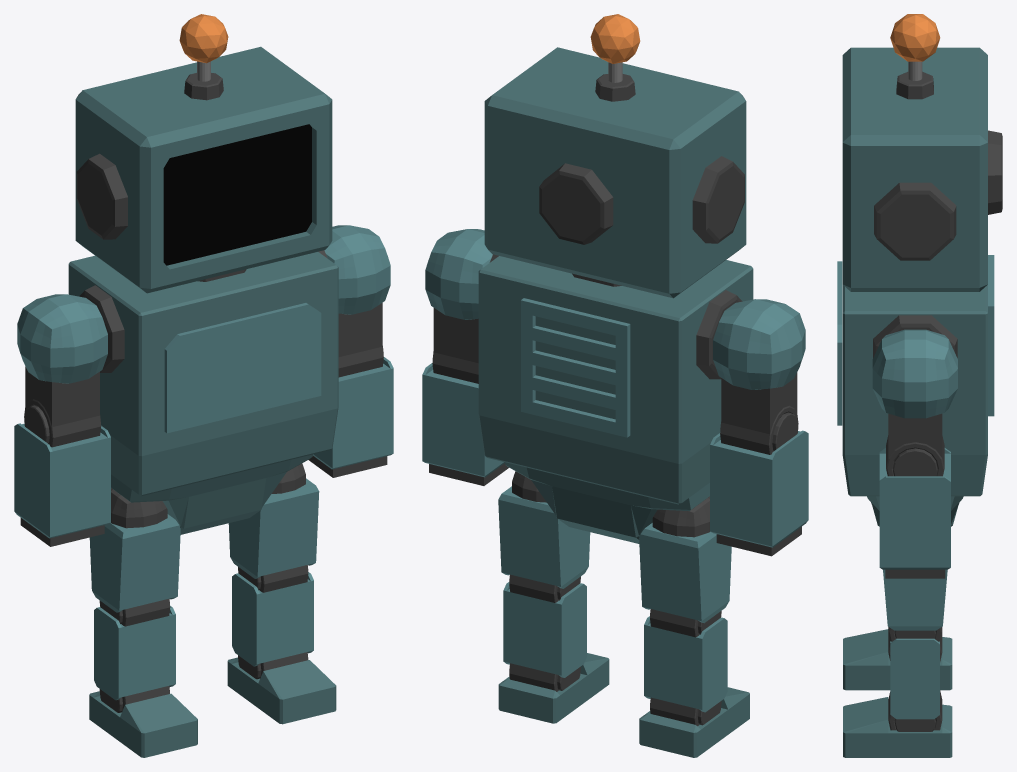
The model's file is GatherBot_V2.fbx.
The picture shows the model from 3 angles, left to right: view 1: azimuth 30°, elevation 25°; view 2: azimuth 150°, elevation 25°; view 3: azimuth 270°, elevation 25°; orthographic projection.
Parts seen in each view (by area): view 1: M.Body, M.Head, M.R.Lower Arm, M.R.Upper Arm, M.R.Upper Leg, M.L.Lower Arm, M.L.Lower Leg, M.R.Lower leg, M.L.Upper Leg, M.L.Upper Arm, M.L.Foot, M.R.Foot; view 2: M.Body, M.Head, M.R.Lower Arm, M.R.Upper Arm, M.R.Upper Leg, M.L.Lower Arm, M.L.Lower Leg, M.R.Lower leg, M.L.Upper Leg, M.L.Upper Arm, M.L.Foot, M.R.Foot; view 3: M.Head, M.Body, M.L.Lower Arm, M.L.Upper Arm, M.L.Foot, M.L.Lower Leg, M.R.Foot, M.L.Upper Leg.
Boxes of the visible parts, box(x1,y1,x2,y2) form: M.Body: box(68, 250, 338, 534); M.Head: box(75, 14, 332, 293); M.R.Lower Arm: box(14, 399, 110, 546); M.R.Upper Arm: box(17, 294, 107, 426); M.R.Upper Leg: box(89, 488, 180, 612); M.L.Lower Arm: box(308, 346, 393, 477); M.L.Lower Leg: box(232, 565, 313, 666); M.R.Lower leg: box(94, 598, 175, 700); M.L.Upper Leg: box(228, 463, 319, 578); M.L.Upper Arm: box(324, 225, 390, 356); M.L.Foot: box(227, 652, 336, 724); M.R.Foot: box(89, 686, 197, 757); M.Body: box(478, 254, 753, 543); M.Head: box(484, 14, 746, 298); M.R.Lower Arm: box(710, 405, 808, 556); M.R.Upper Arm: box(713, 299, 805, 434); M.R.Upper Leg: box(639, 496, 731, 623); M.L.Lower Arm: box(422, 351, 508, 485); M.L.Lower Leg: box(503, 574, 586, 677); M.R.Lower leg: box(644, 609, 727, 712); M.L.Upper Leg: box(498, 471, 590, 588); M.L.Upper Arm: box(425, 229, 492, 363); M.L.Foot: box(498, 653, 609, 723); M.R.Foot: box(639, 687, 749, 757); M.Head: box(842, 14, 1002, 291); M.Body: box(837, 255, 994, 526); M.L.Lower Arm: box(879, 435, 950, 578); M.L.Upper Arm: box(872, 329, 957, 457); M.L.Foot: box(843, 690, 952, 757); M.L.Lower Leg: box(888, 627, 942, 719); M.R.Foot: box(843, 629, 952, 690); M.L.Upper Leg: box(883, 569, 947, 630).
Bounding box in the file's own units: 124 × 231 × 49.78.
